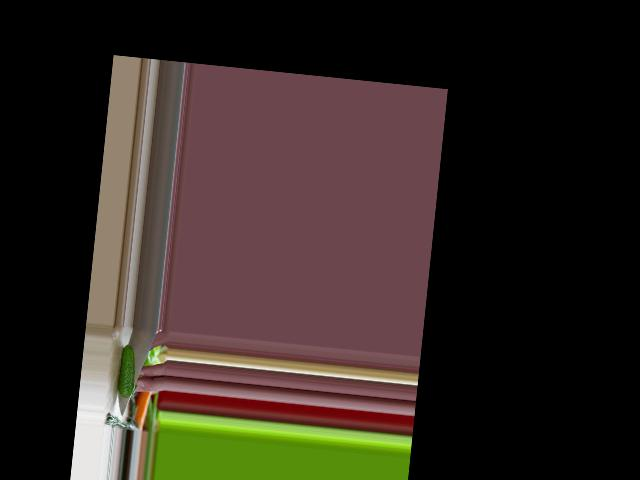cucumber: (116, 344, 137, 398)
